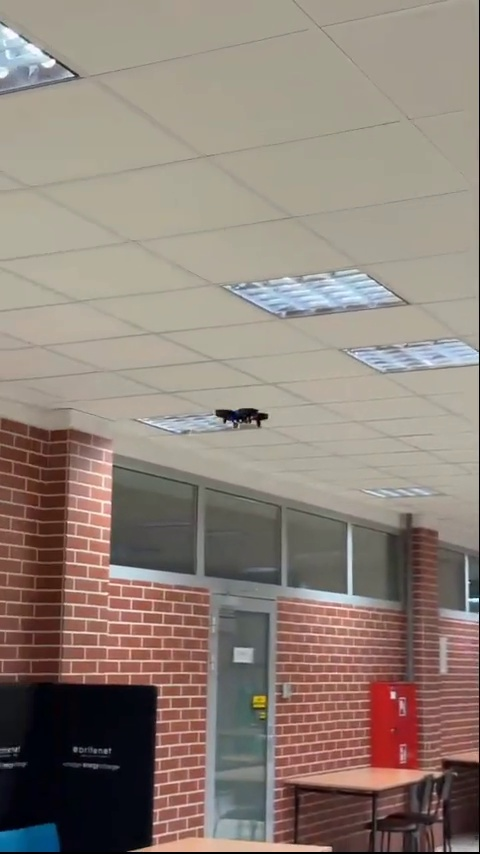drone: (214, 404, 274, 429)
